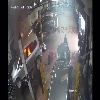fire: (18, 28, 32, 57)
